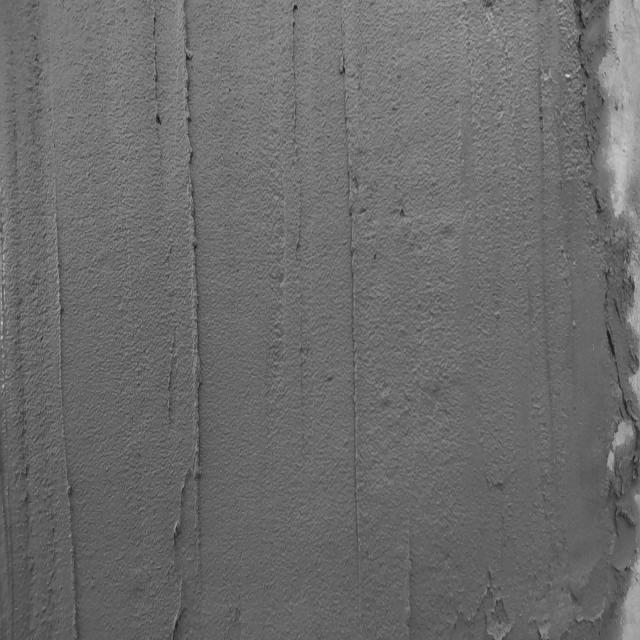trowels marks: (45, 170, 85, 640), (182, 13, 208, 563), (342, 50, 367, 587)
